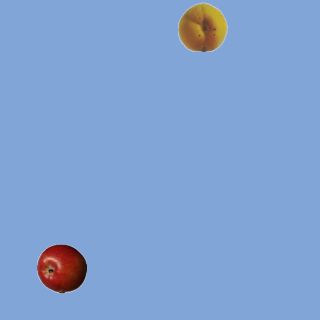Apple Braeburn: (36, 243, 86, 293)
Peach 2: (177, 1, 227, 51)
